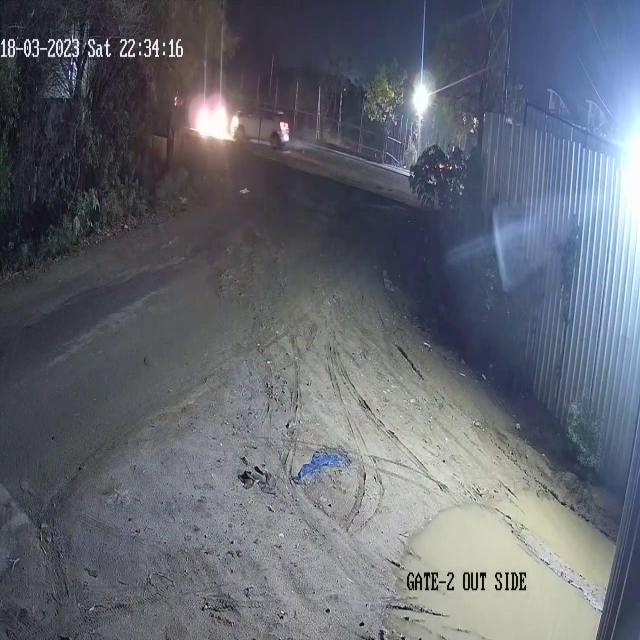accident: (188, 85, 294, 153)
